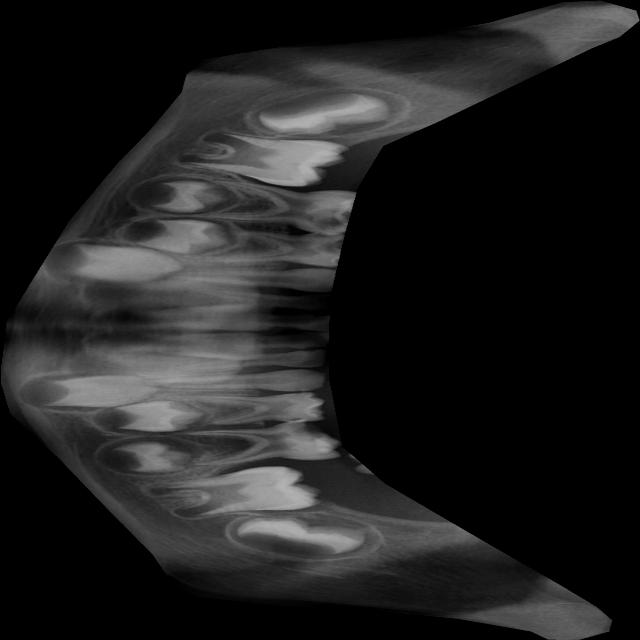mandibula: (0, 0, 639, 640)
